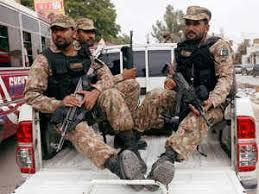gun: (53, 48, 103, 154), (155, 57, 213, 130)
uniform: (29, 42, 144, 173), (134, 35, 238, 155)
